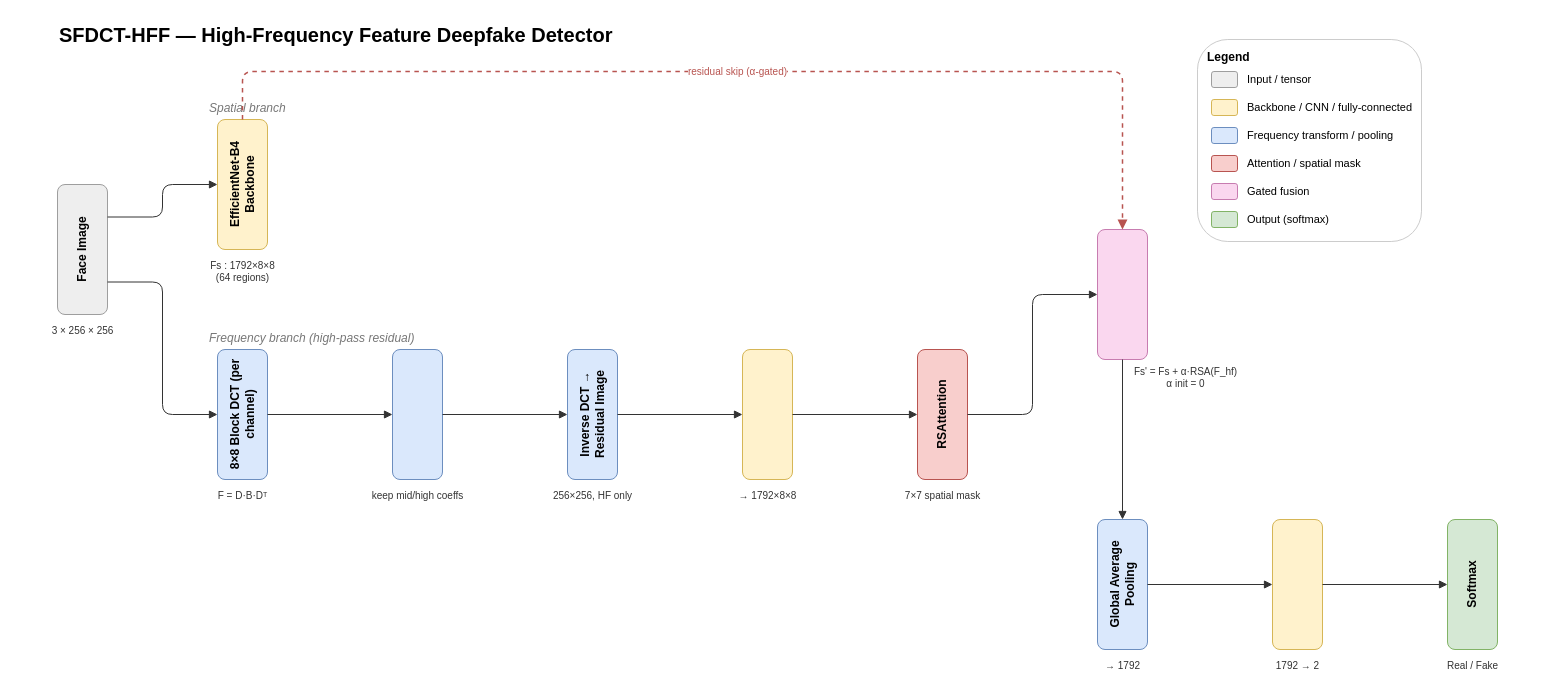
Image size: 1554x690. Some labels were removed from this diagram. The centre of each missing label's shape, as x and y in pixels:
"Fully Connected" goes at [1297,584].
"Gated Fusion (⊕)" goes at [1122,294].
"HF-Stream: 5× (Conv–BN–ReLU)" goes at [767,414].
"High-Pass: zero low-freq" goes at [417,414].
